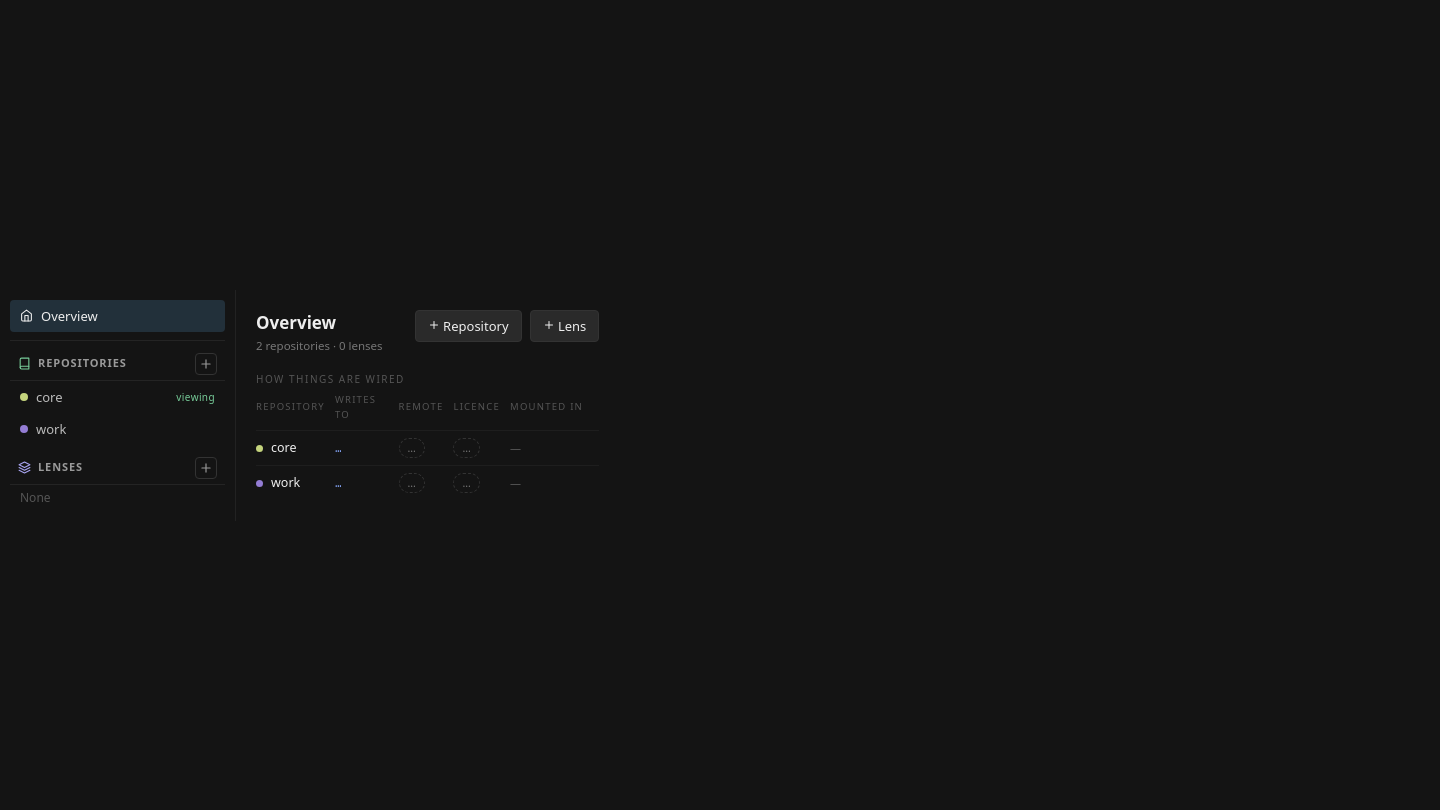
Test: arriving from an Overview cell › still finds a block that only arrives after the page has mounted
What coordinates should you click on to do the following:
click the button with test id "fleet-license-core"
I would click on:
 (467, 448)
Its box is [453,438,480,458].
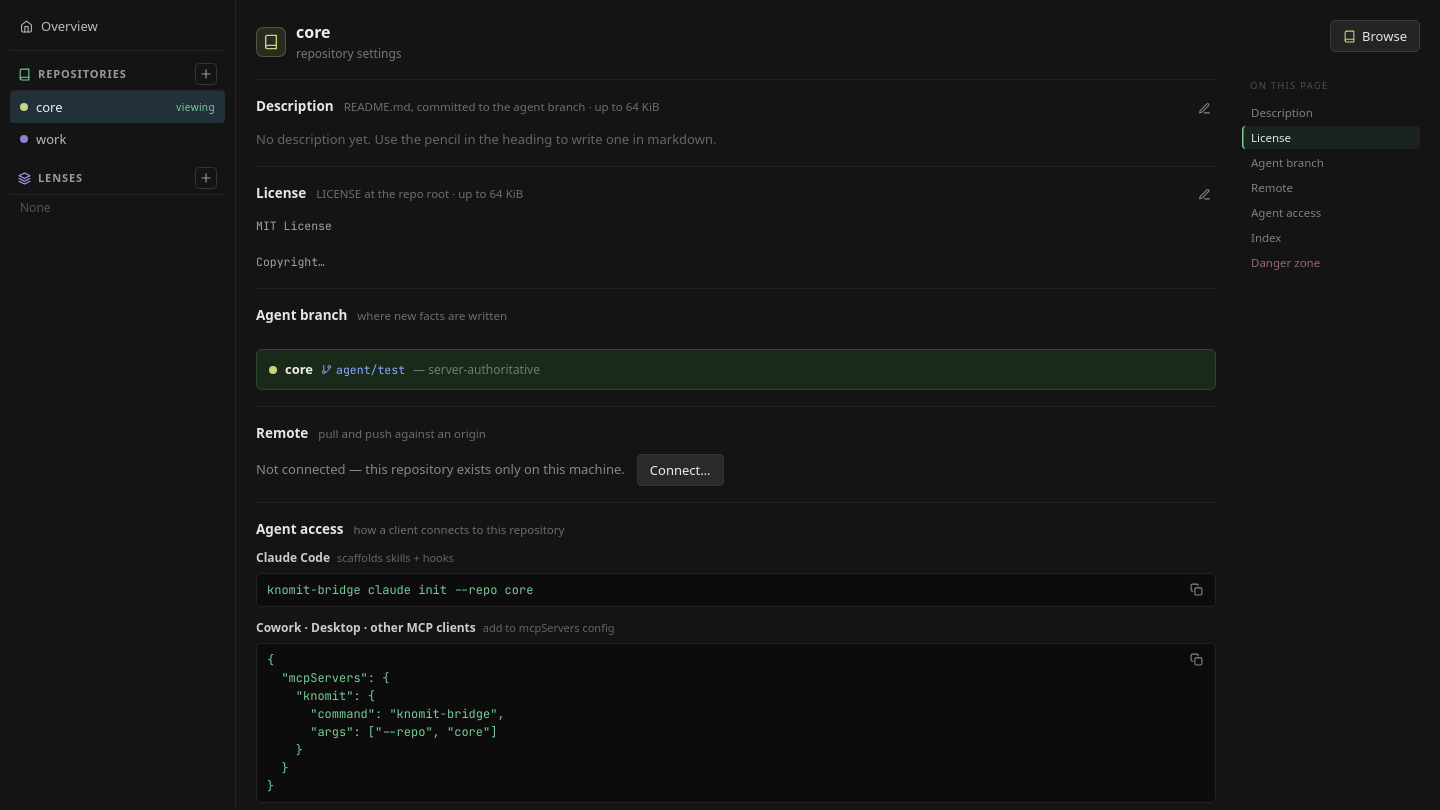
Check: the element with test id "block-license" is shown, box [256,166,1216,272]
